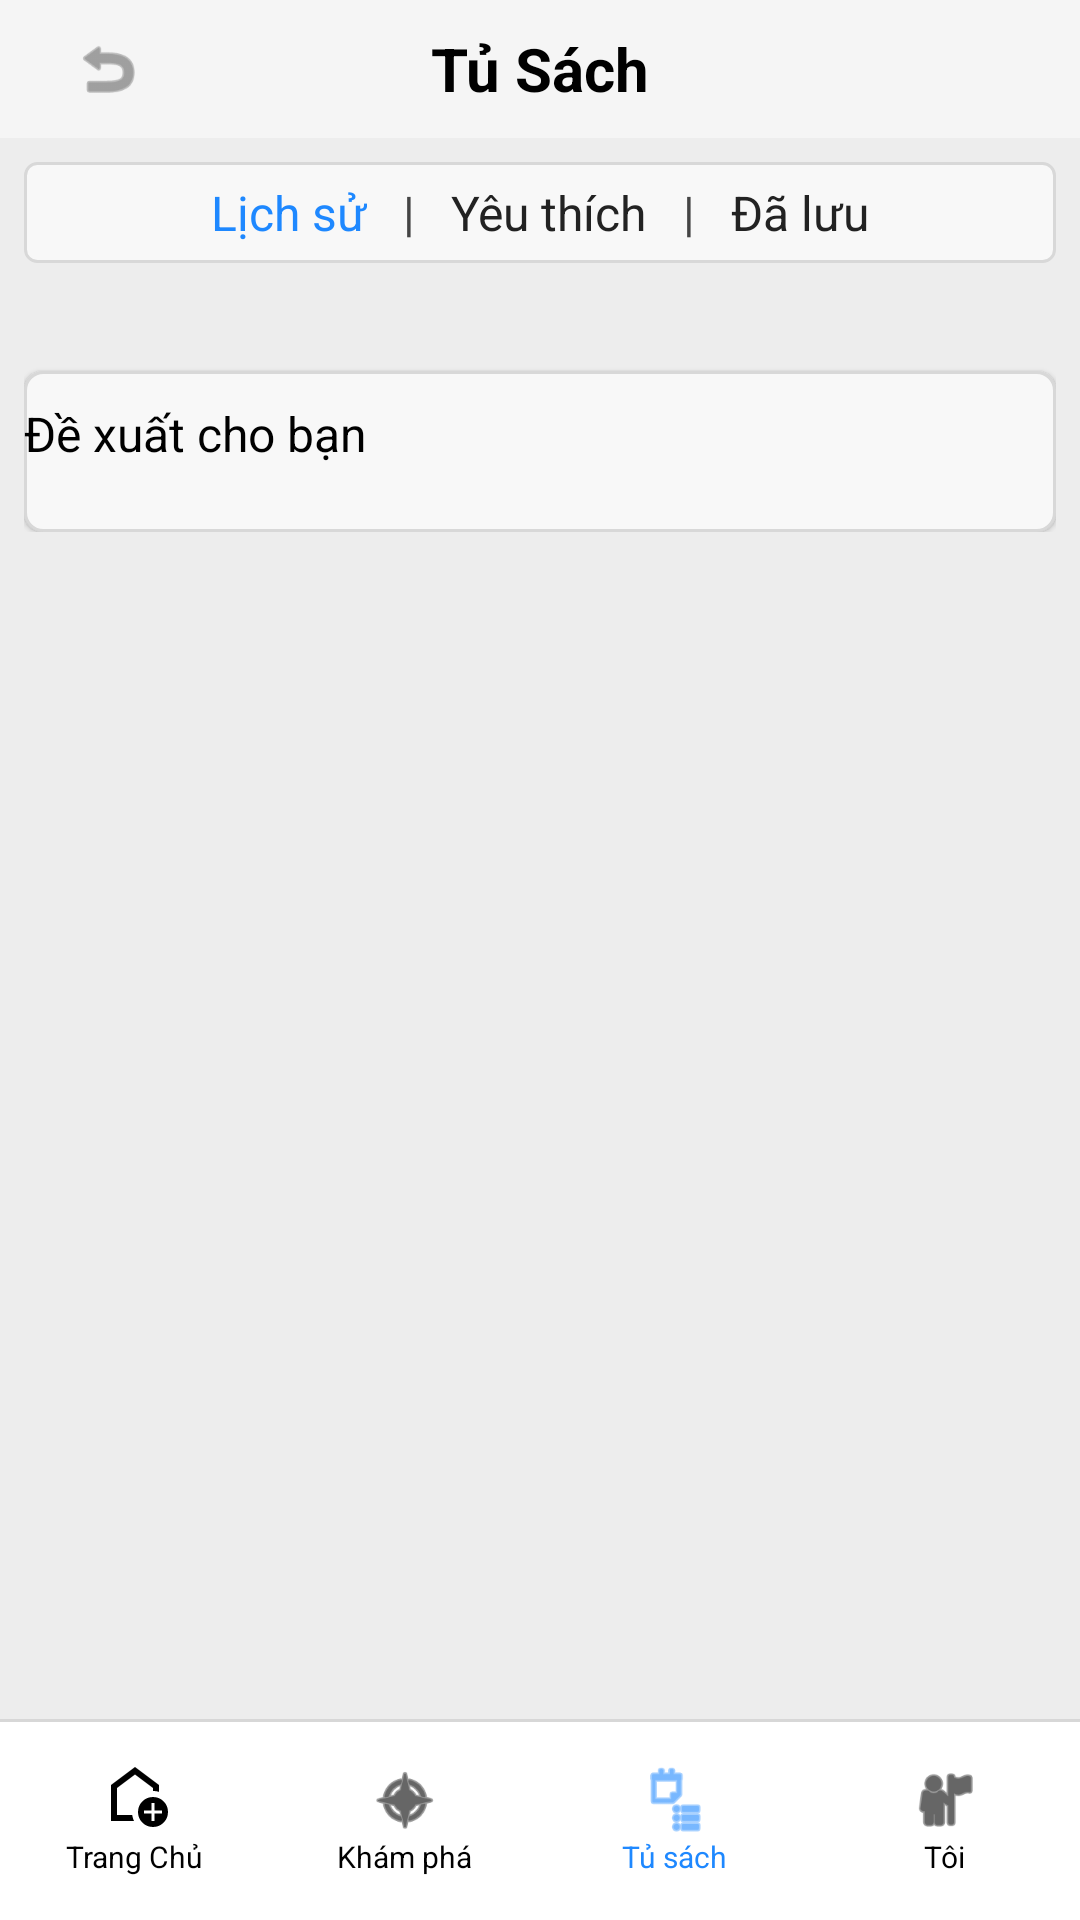

Locate icon controls on the screen. Image size 1080 x 1920, boxes as bbox(x1, y1, x2, y2).
agenda: bbox(650, 1768, 701, 1832)
compass: bbox(376, 1772, 433, 1829)
myplaces: bbox(919, 1773, 973, 1827)
revert: bbox(83, 46, 135, 93)
